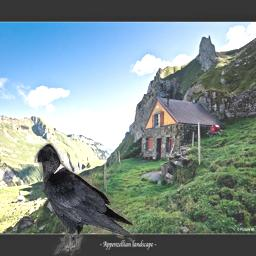Crow: (34, 143, 136, 256)
